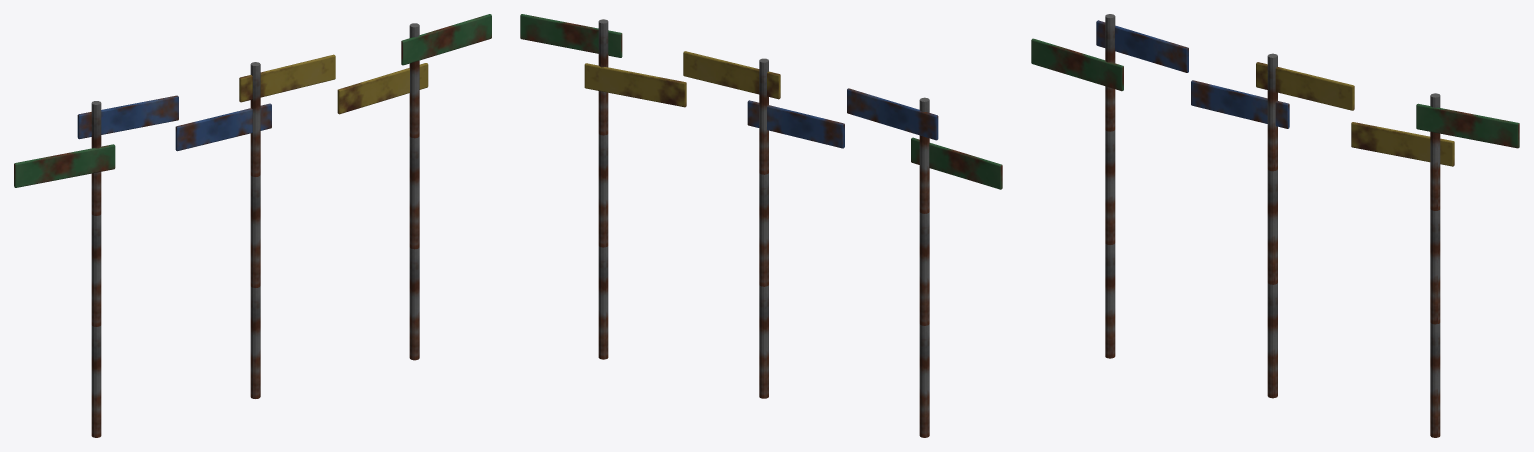
The model's file is ST09_DirectionSignboards.glb.
3 views of the same model, side by side, from view 1: azimuth 30°, elevation 25°; view 2: azimuth 150°, elevation 25°; view 3: azimuth 330°, elevation 25° (orthographic). The views are drawn at different scales.
Visible parts, largest first — view 1: ST09_DirectionSignboards; view 2: ST09_DirectionSignboards; view 3: ST09_DirectionSignboards.
Part boxes in pixels (x1,y1,x2,y2): ST09_DirectionSignboards: (14, 14, 491, 437); ST09_DirectionSignboards: (520, 14, 1002, 437); ST09_DirectionSignboards: (1031, 14, 1519, 437).
Size of the model in its own units: 3 by 2 by 0.0785.
4 materials, 4 textured.
